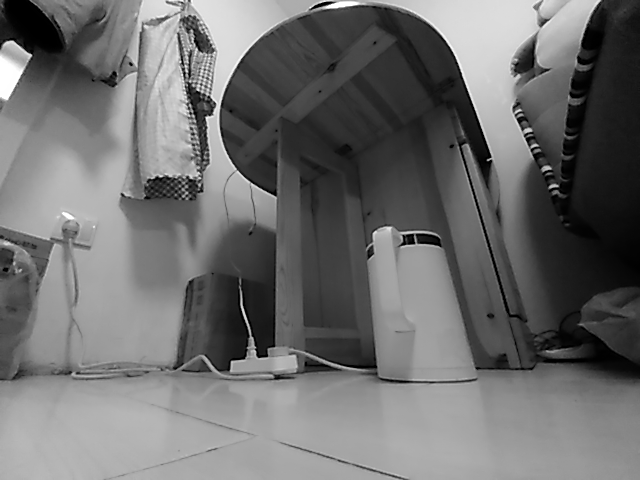power strip: (230, 335, 299, 380)
wire: (60, 310, 230, 382), (299, 346, 377, 377), (533, 310, 591, 348)
